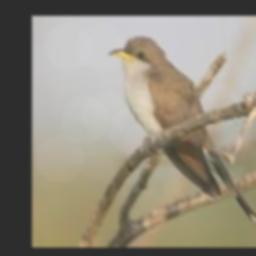Cuckoo: (108, 35, 256, 242)
